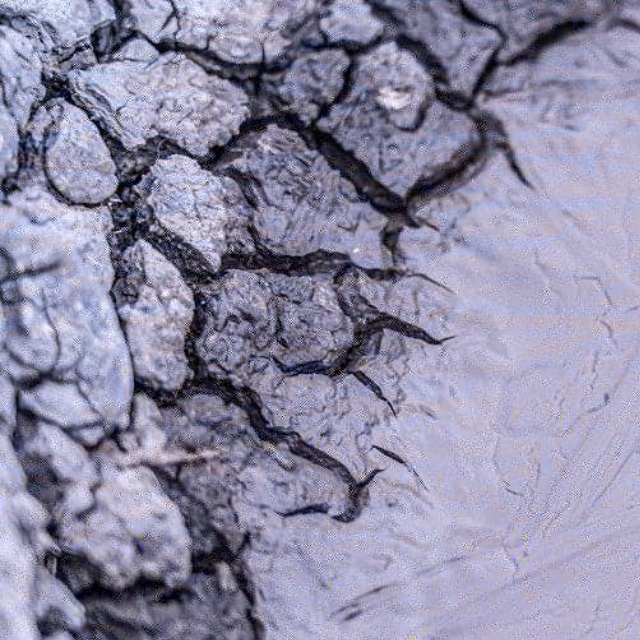深大裂缝: (17, 0, 449, 566)
